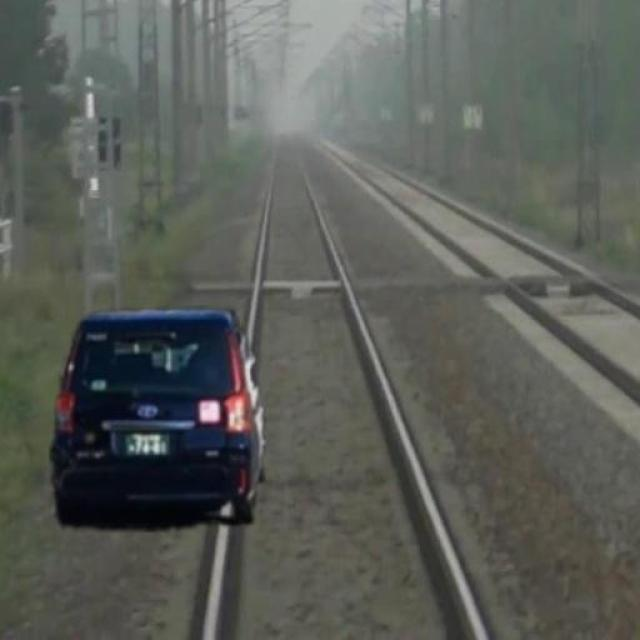vehicle: (51, 301, 270, 532)
